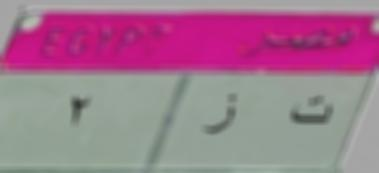2: (61, 92, 97, 138)
taa: (287, 89, 336, 132)
zay: (202, 88, 242, 142)
